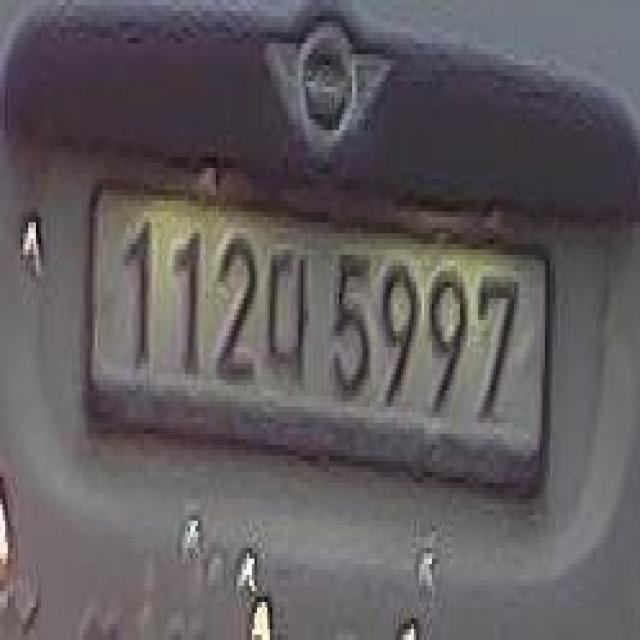illegal_plate: (81, 171, 551, 518)
